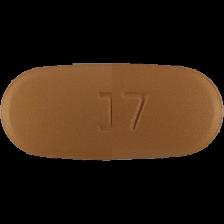60687-139: (0, 0, 224, 224)
